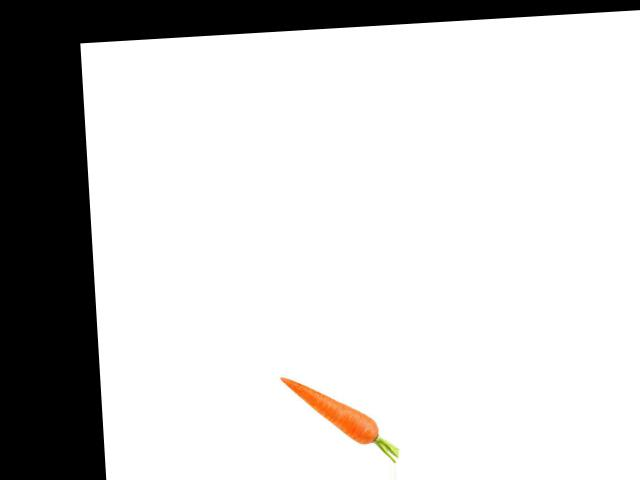carrot: (278, 368, 385, 451)
